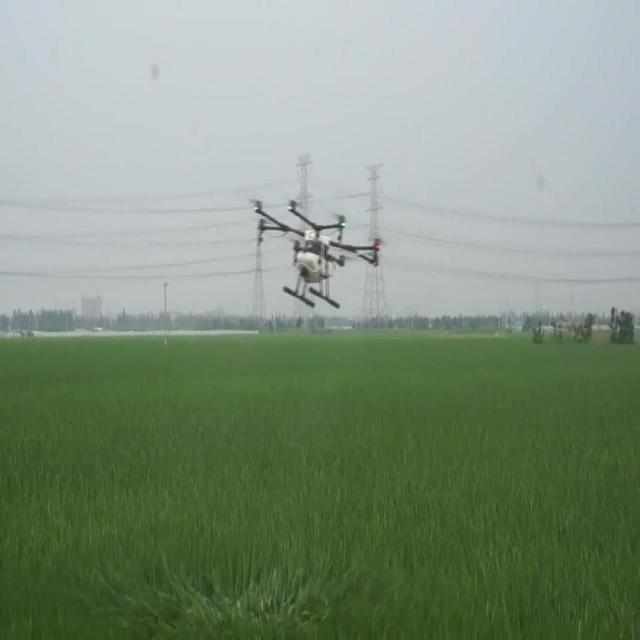UAV: (250, 198, 384, 310)
